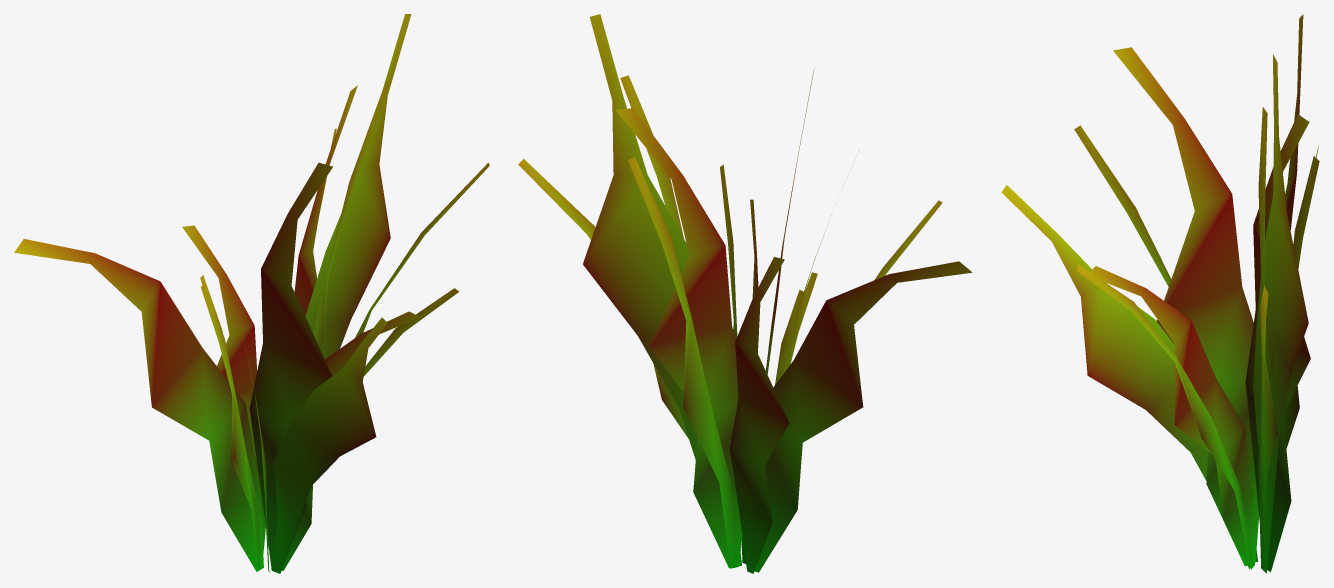
File: tmjhcayia_Var7_LOD0.fbx
3 views of the same model, side by side, from view 1: azimuth 30°, elevation 25°; view 2: azimuth 150°, elevation 25°; view 3: azimuth 270°, elevation 25° (orthographic). The views are drawn at different scales.
Visible parts, largest first — view 1: Var7_LOD0; view 2: Var7_LOD0; view 3: Var7_LOD0.
Part boxes in pixels (x1,y1,x2,y2): Var7_LOD0: (14,14,489,573); Var7_LOD0: (518,14,972,573); Var7_LOD0: (1001,14,1319,573).
Size of the model in its own units: 6.39 by 6.83 by 3.34.
